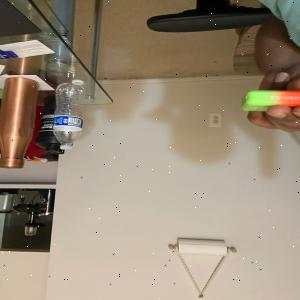Swift-E-Ciggirate: (233, 85, 300, 115)
